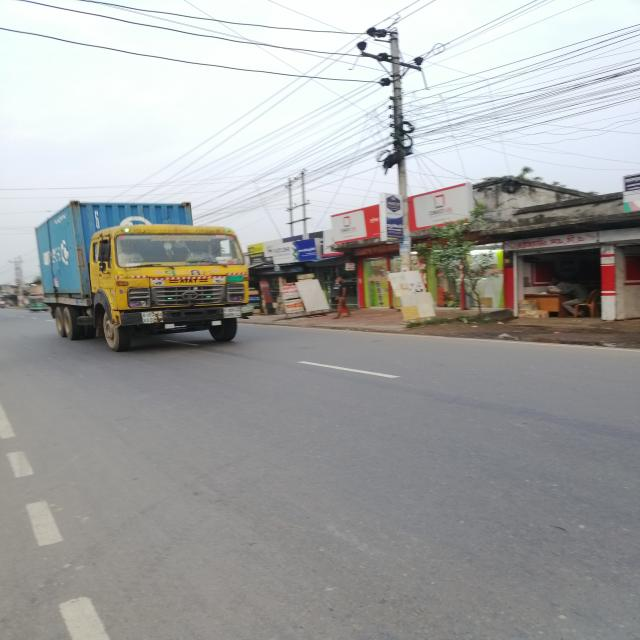Truck: (20, 194, 268, 362)
